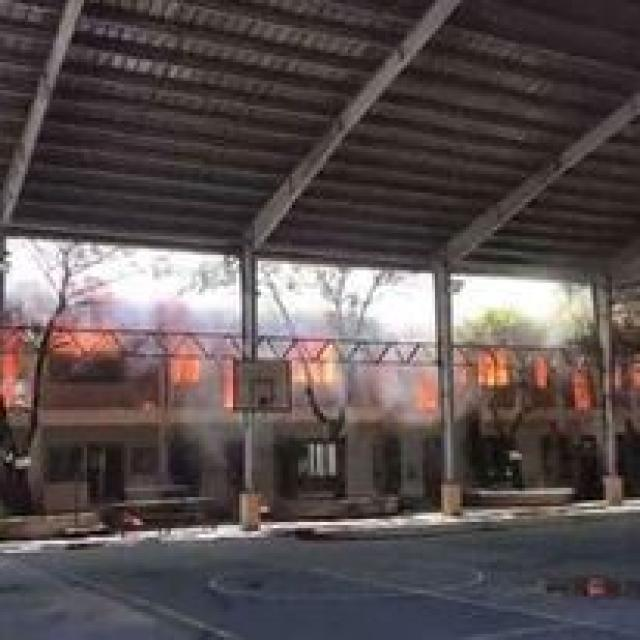Fire: (0, 290, 188, 390), (459, 342, 599, 407), (270, 326, 338, 383)
